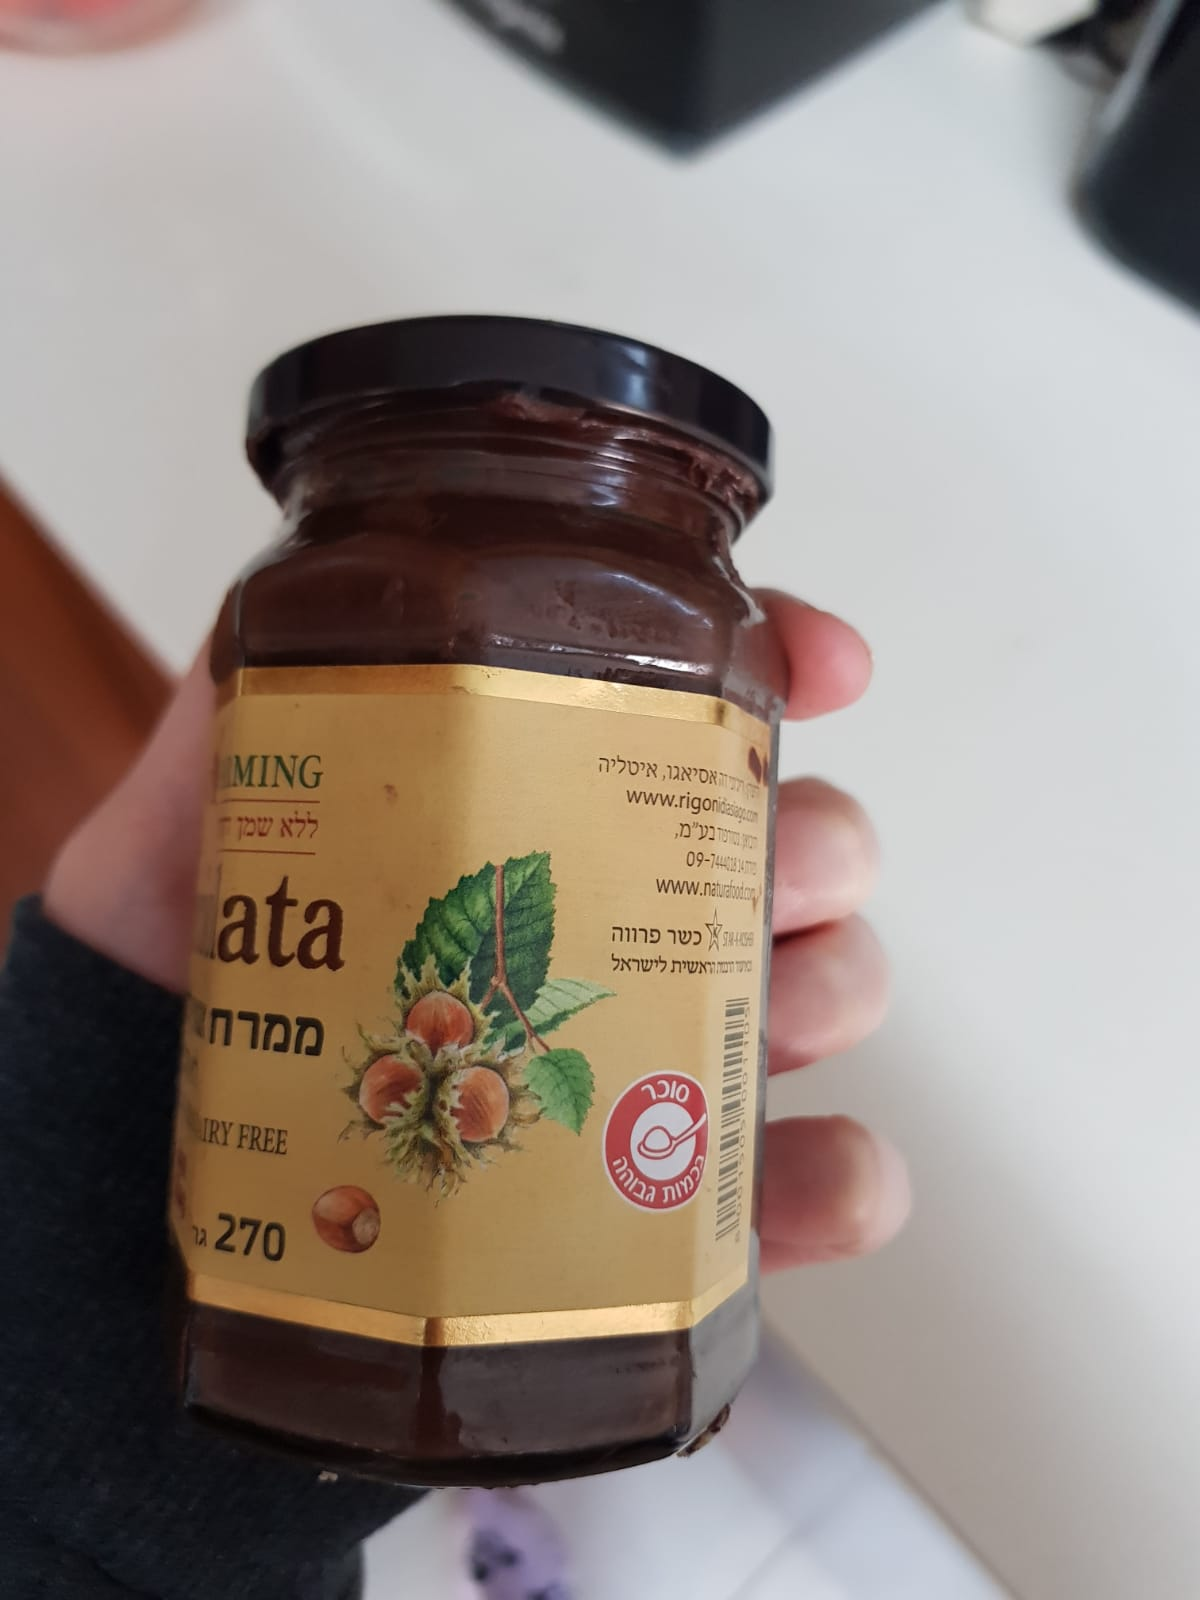sugar: (608, 1071, 711, 1208)
